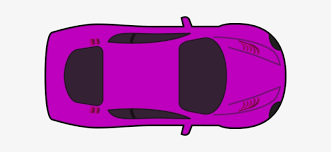car: (43, 17, 288, 134)
